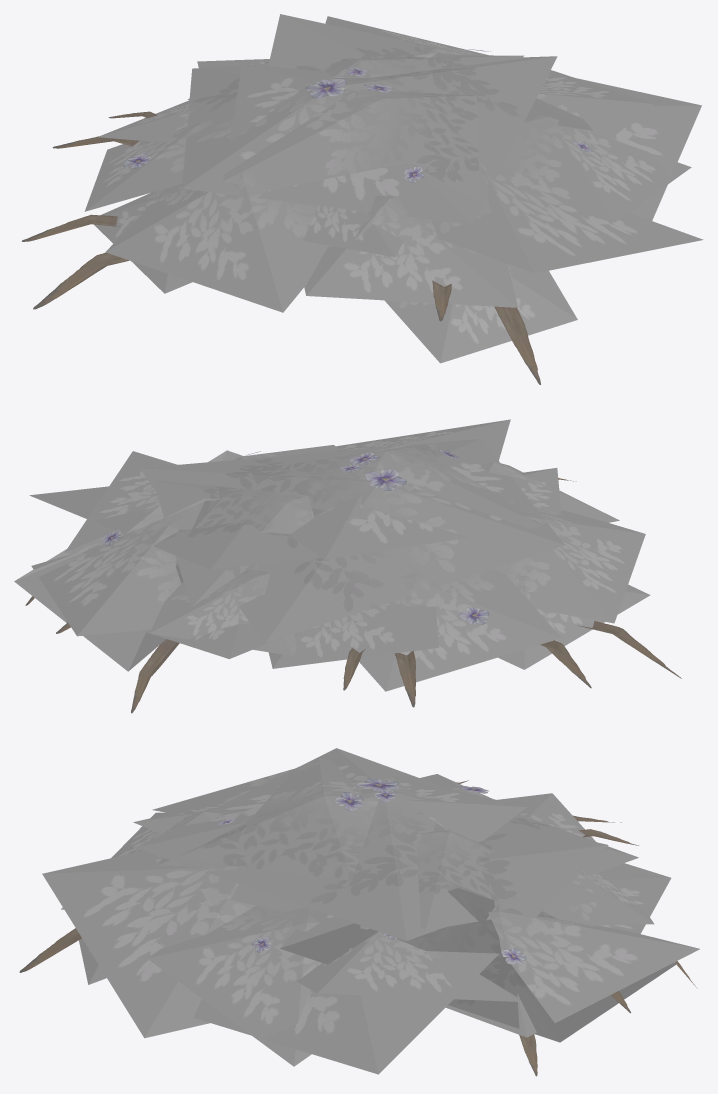
Rendered from SM_Com_Vin_02AS.fbx.
3 views of the same model, one above another, from view 1: azimuth 30°, elevation 25°; view 2: azimuth 150°, elevation 25°; view 3: azimuth 270°, elevation 25° (orthographic). The views are drawn at different scales.
Visible parts, largest first — view 1: SM_Com_Vin_02AS.mo; view 2: SM_Com_Vin_02AS.mo; view 3: SM_Com_Vin_02AS.mo.
Boxes of the visible parts, box(x1,y1,x2,y2) form: SM_Com_Vin_02AS.mo: box(21, 14, 703, 384); SM_Com_Vin_02AS.mo: box(14, 419, 681, 713); SM_Com_Vin_02AS.mo: box(19, 748, 699, 1076).
Bounding box in the file's own units: 0.5861 × 0.1517 × 0.515.
